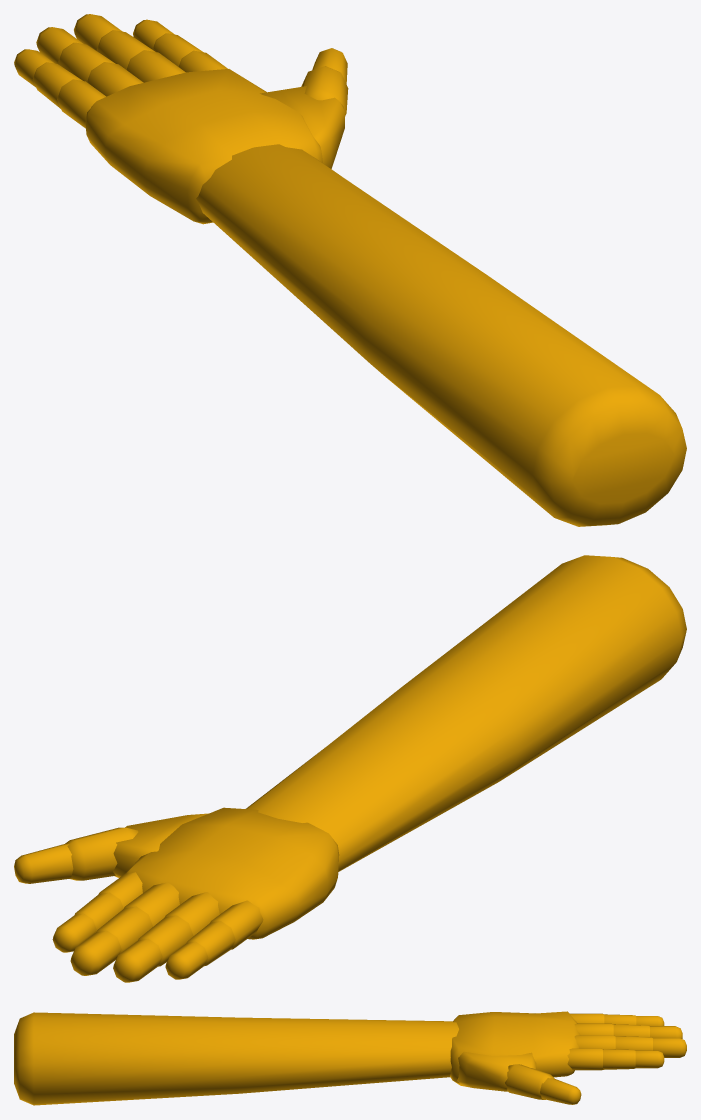
Rendered from left_hand.glb.
3 renders of one model, top to bottom at view 1: azimuth 30°, elevation 25°; view 2: azimuth 150°, elevation 25°; view 3: azimuth 270°, elevation 25°, orthographic. The views are drawn at different scales.
Visible parts, largest first — view 1: arm_lower, hand, thumb_0, pinky_0, thumb_1, middle_1, middle_0, ring_1, ring_0, pinky_1, middle_2, ring_2 (+1 smaller); view 2: arm_lower, hand, thumb_1, thumb_0, thumb_2, middle_2, ring_2, ring_1, middle_1, pinky_0, middle_0, ring_0 (+5 smaller); view 3: arm_lower, hand, thumb_0, thumb_1, thumb_2, index_0, index_1, middle_2, middle_0, middle_1, index_2, ring_0 (+5 smaller).
Boxes of the visible parts, x1,y1,x2,y2 form: arm_lower: [196, 144, 686, 526]; hand: [85, 69, 322, 224]; thumb_0: [260, 86, 344, 168]; pinky_0: [57, 79, 106, 128]; thumb_1: [301, 66, 348, 116]; middle_1: [96, 30, 155, 69]; middle_0: [126, 50, 185, 82]; ring_1: [58, 42, 115, 81]; ring_0: [87, 62, 143, 96]; pinky_1: [32, 62, 82, 108]; middle_2: [74, 14, 122, 50]; ring_2: [36, 27, 83, 64]; arm_lower: [246, 555, 686, 871]; hand: [126, 807, 339, 939]; thumb_1: [65, 827, 138, 880]; thumb_0: [113, 813, 208, 877]; thumb_2: [14, 844, 73, 883]; middle_2: [70, 930, 121, 975]; ring_2: [113, 938, 162, 982]; ring_1: [138, 915, 193, 966]; middle_1: [96, 906, 152, 953]; pinky_0: [210, 900, 263, 949]; middle_0: [124, 882, 179, 926]; ring_0: [165, 892, 219, 935]; arm_lower: [14, 1012, 458, 1105]; hand: [450, 1011, 580, 1083]; thumb_0: [452, 1051, 536, 1091]; thumb_1: [505, 1064, 554, 1099]; thumb_2: [540, 1078, 581, 1104]; index_0: [567, 1048, 602, 1070]; index_1: [603, 1049, 635, 1069]; middle_2: [653, 1038, 686, 1057]; middle_0: [574, 1035, 615, 1049]; middle_1: [615, 1036, 652, 1050]; index_2: [635, 1050, 664, 1068]; ring_0: [574, 1023, 613, 1035].
Size of the model in its own units: 2.89 by 1.4 by 10.35.
